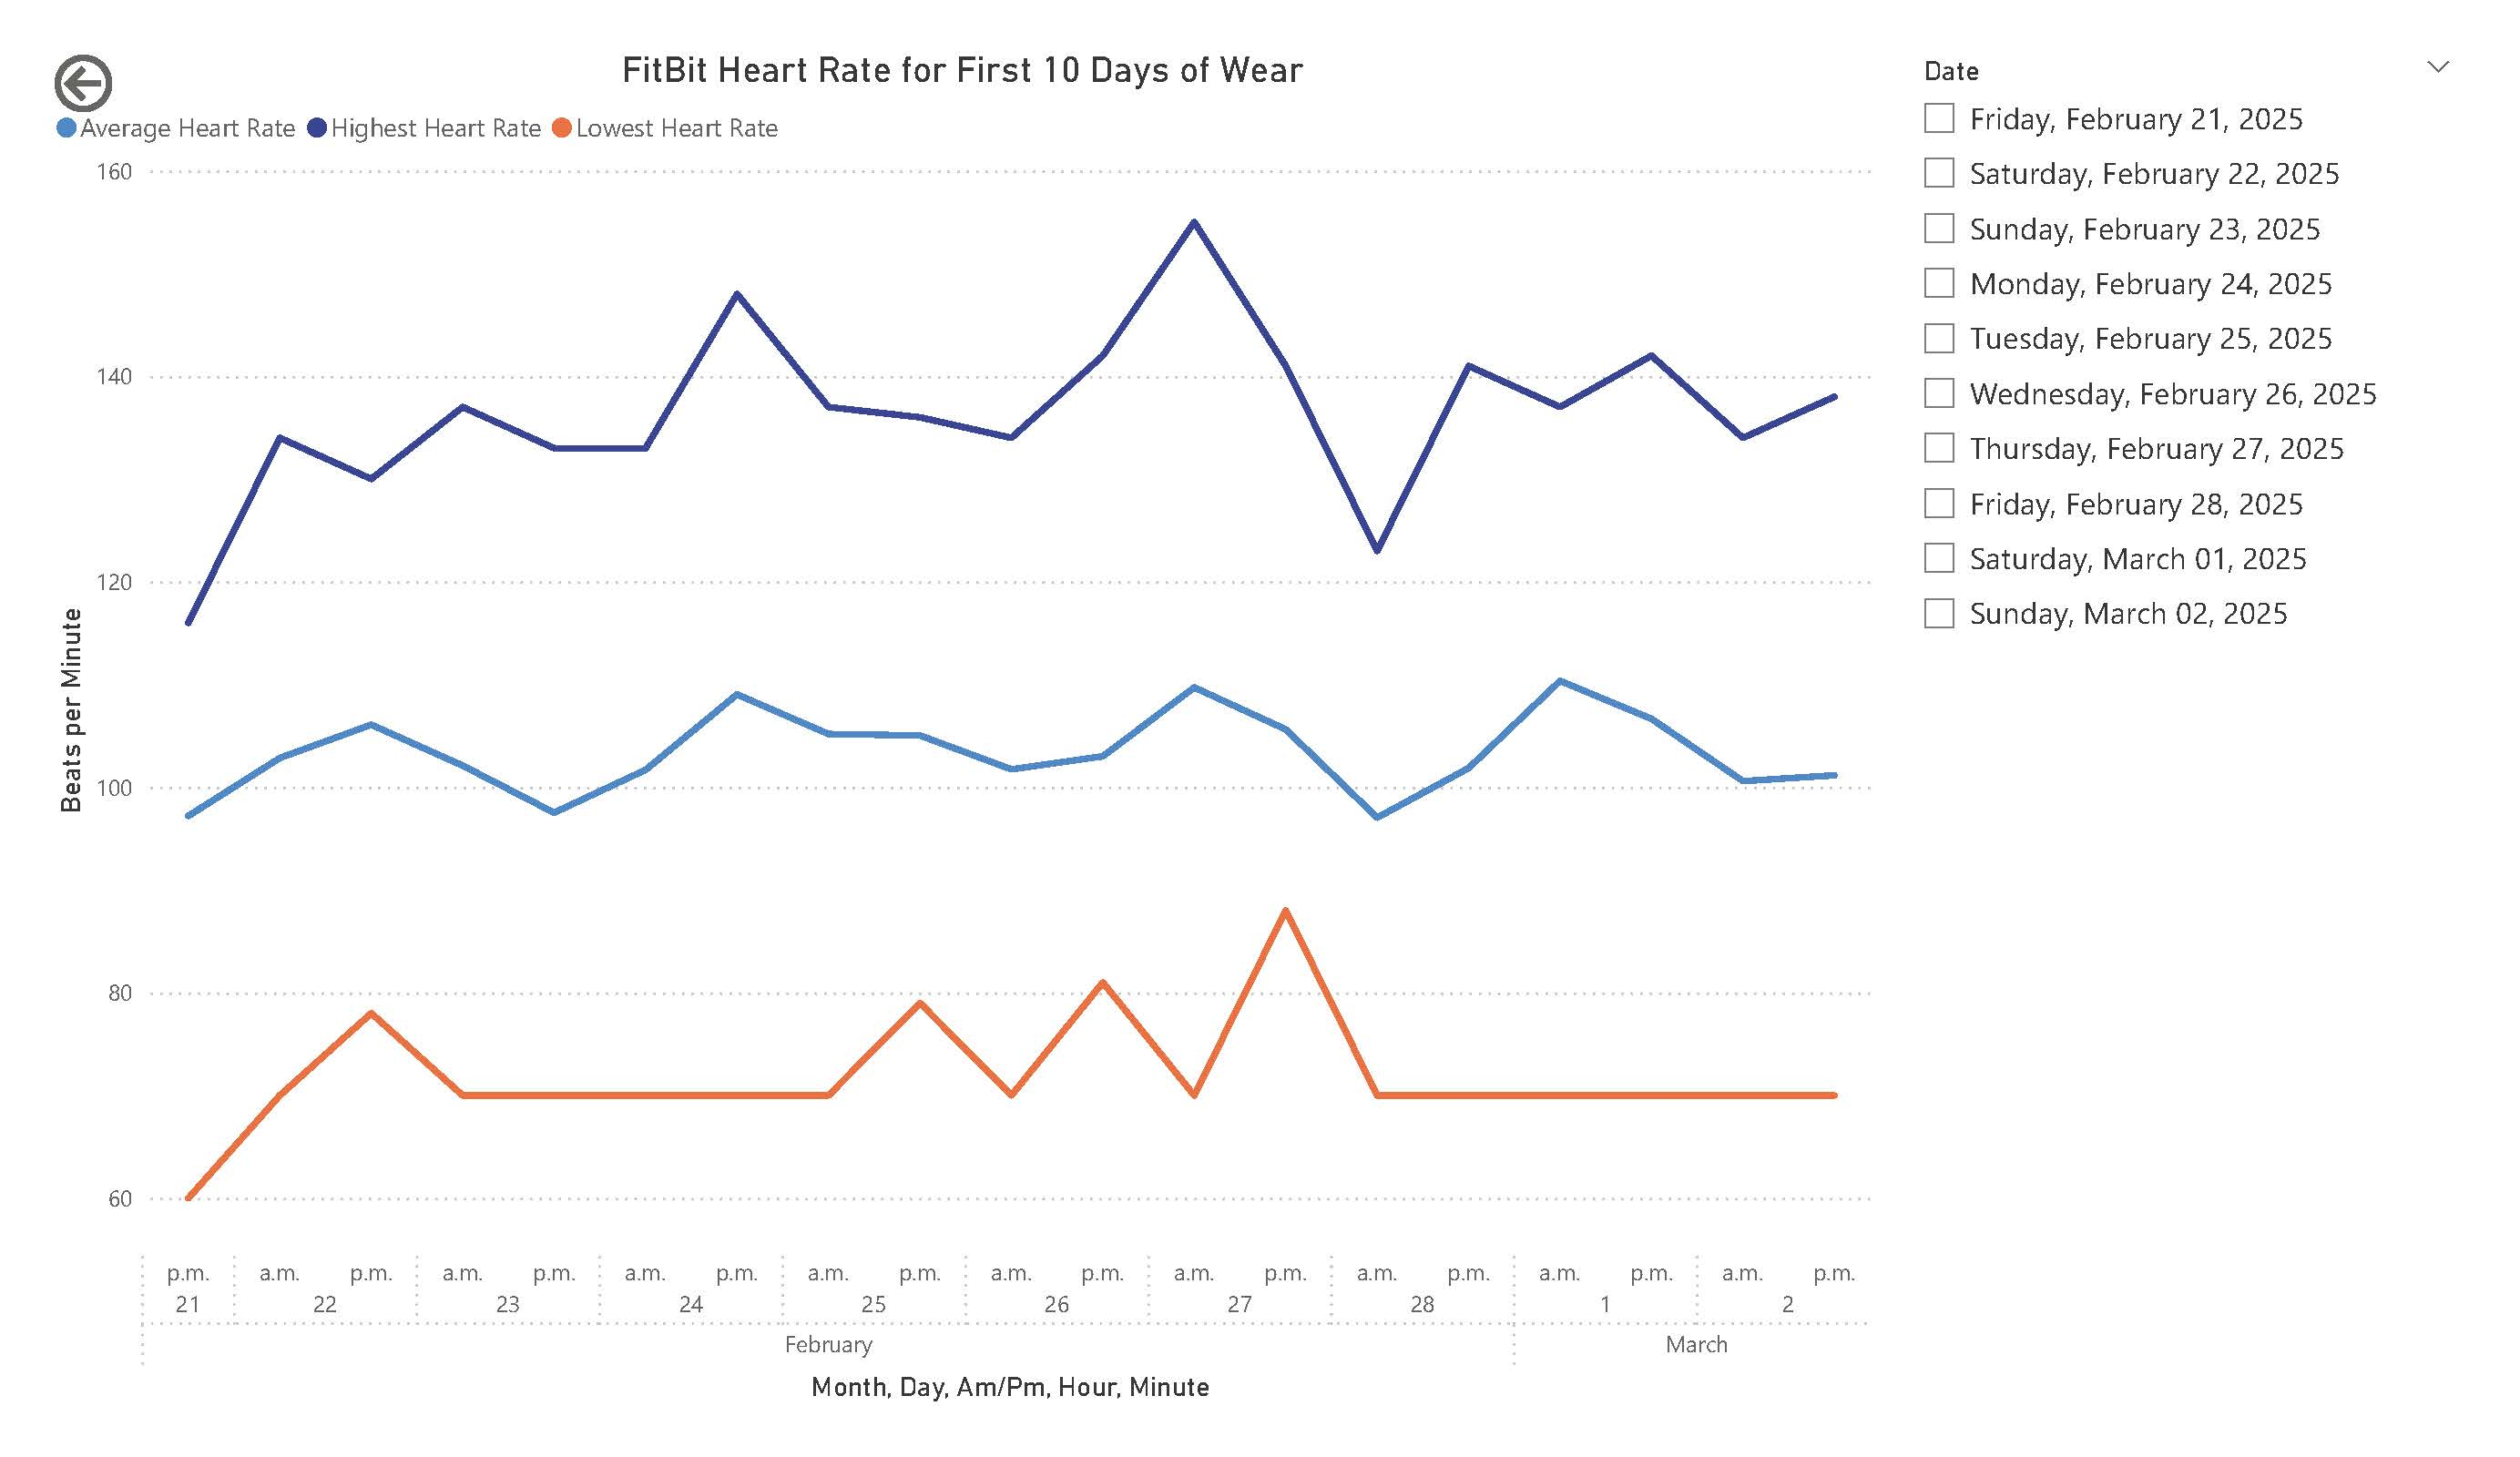

The page's visual inventory and layout, read from the dashboard file:
{"tool":"powerbi","page":{"name":"Page 1","canvas":[1280,720],"ordinal":0},"visuals":[{"type":"lineChart","title":"FitBit Heart Rate for First 10 Days of Wear","fields":{"Category":["Date_dim.Date.Variation.Date Hierarchy.Month","Date_dim.Date.Variation.Date Hierarchy.Day","Time_dim.AM/PM","Time_dim.Hour Bin 12","Time_dim.Minute Bin 10"],"Y":["heart_rate.High_BPM","heart_rate.Avg_BPM","heart_rate.Low_BPM"]},"box":[0,1.7,1131.7,718.3],"z":0},{"type":"slicer","fields":{"Values":["heart_rate.Date"]},"box":[1131.7,0,148.3,330],"z":1000},{"type":"actionButton","box":[0,0,100,40],"z":2000}]}

Visuals, with their boxes on the page's 1280x720 design canvas (x1, y1, x2, y2). These are canvas units, not pixel positions in the 2520x1457 screenshot, which may show the page scaled, cropped or inside an application window:
"FitBit Heart Rate for First 10 Days of Wear" lineChart: [0, 2, 1132, 720]
slicer - heart_rate.Date: [1132, 0, 1280, 330]
actionButton: [0, 0, 100, 40]
